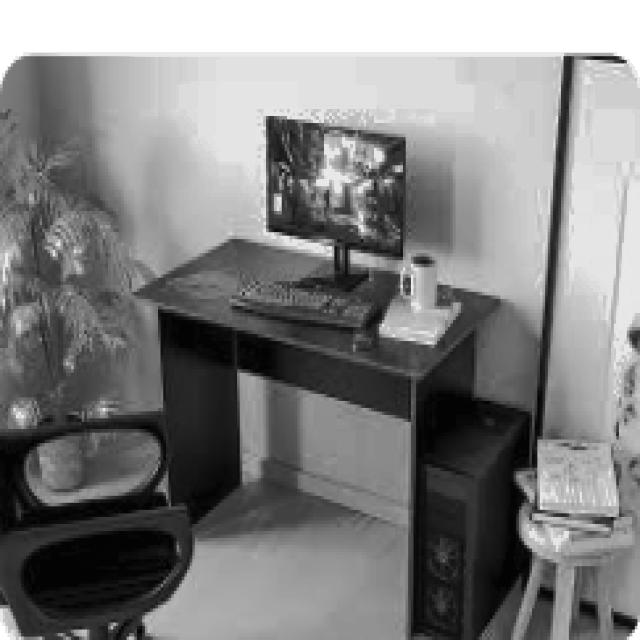table: (126, 232, 506, 637)
